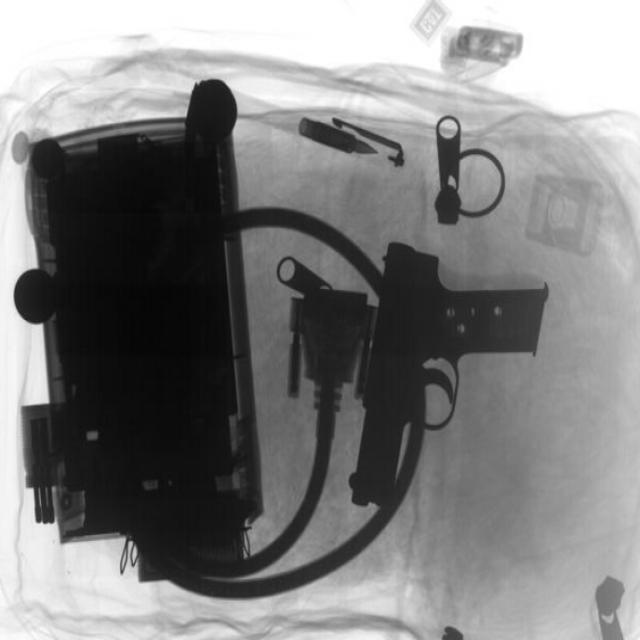GUN: (357, 244, 549, 519)
